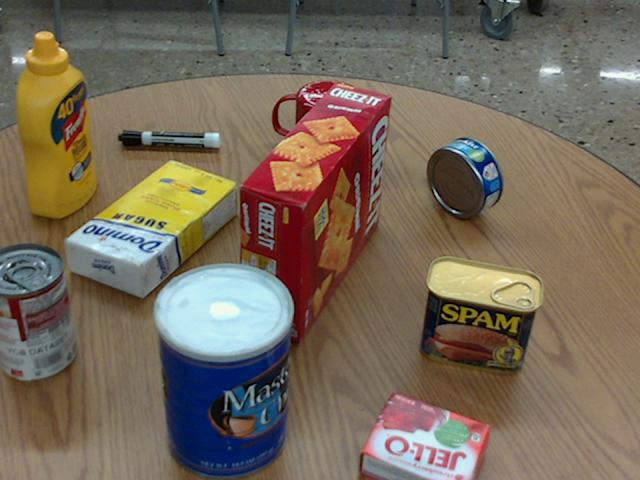cracker_box: (241, 83, 390, 340)
gelatin_box: (359, 392, 492, 479)
large_marker: (119, 129, 219, 147)
master_chef_can: (154, 263, 292, 479)
mug: (274, 80, 363, 173)
mustard_bottle: (18, 33, 95, 217)
potted_meat_can: (420, 256, 542, 372)
sugar_box: (64, 158, 237, 298)
tomato_soup_can: (0, 242, 75, 379)
tuna_fish_can: (425, 137, 501, 217)
